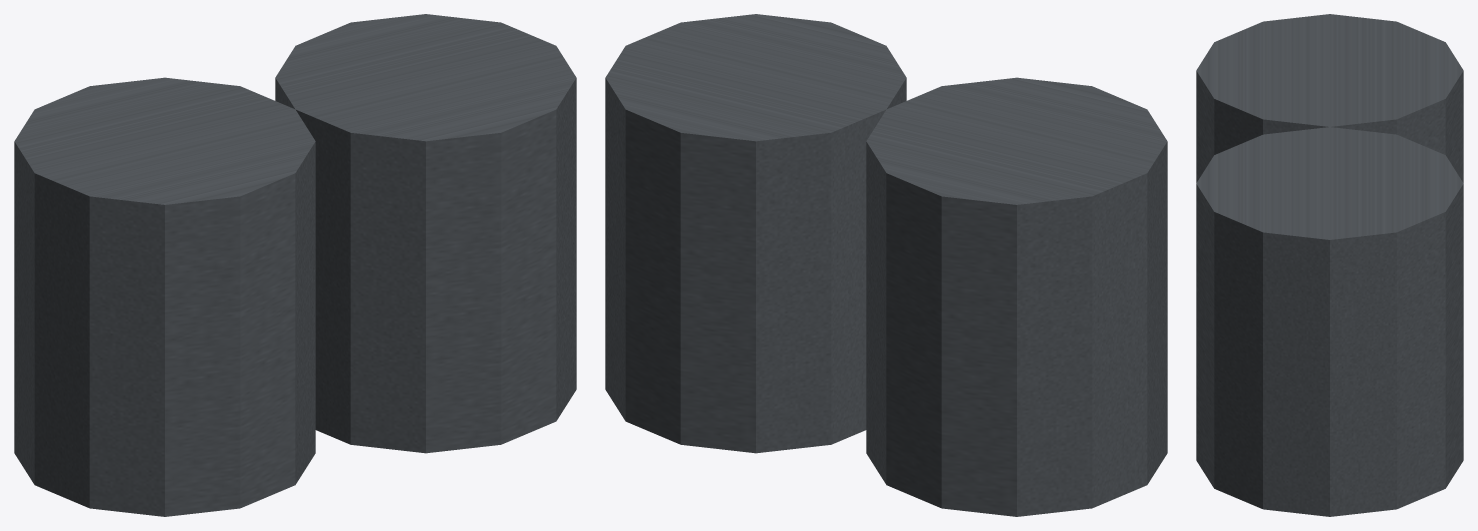
File: trash_bags_lod2.glb
3 renders of one model, left to right at view 1: azimuth 30°, elevation 25°; view 2: azimuth 150°, elevation 25°; view 3: azimuth 270°, elevation 25°, orthographic. The views are drawn at different scales.
Visible parts, largest first — view 1: world; view 2: world; view 3: world.
Boxes of the visible parts, bbox=[...] form: world: bbox=[14, 14, 576, 516]; world: bbox=[605, 14, 1167, 516]; world: bbox=[1196, 14, 1463, 516].
Bounding box in the file's own units: 1.4 × 0.8 × 0.7.
2 materials, 2 textured.
